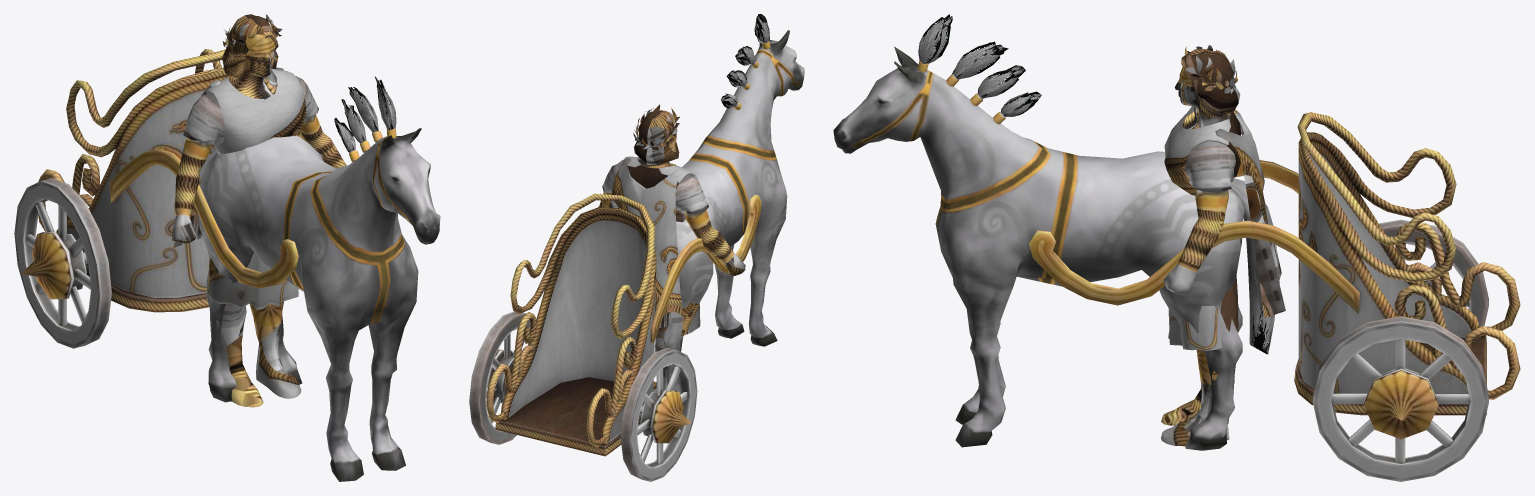
The model's file is 158-iolaus.glb.
3 views of the same model, side by side, from view 1: azimuth 30°, elevation 25°; view 2: azimuth 150°, elevation 25°; view 3: azimuth 270°, elevation 25° (orthographic). The views are drawn at different scales.
Size of the model in its own units: 1.74 by 2.42 by 3.62.
Materials: 2 (2 with a texture image).
